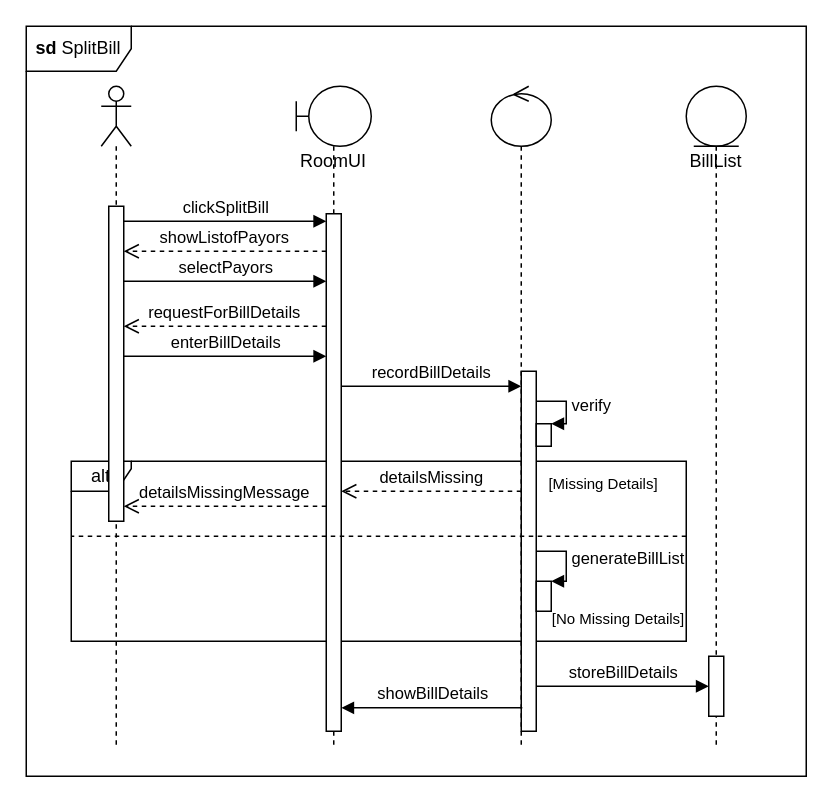
The diagram is 833 pixels wide and 803 high, and some of its shapes have lost their labels. Each missing label, with the box of its shape:
System: (490, 85, 551, 746)
User: (100, 85, 131, 746)
